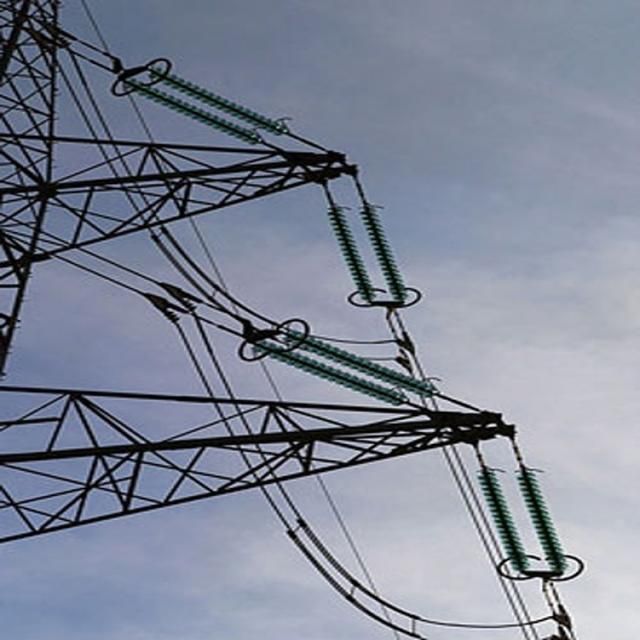non-critical vegetation: (2, 2, 495, 540)
